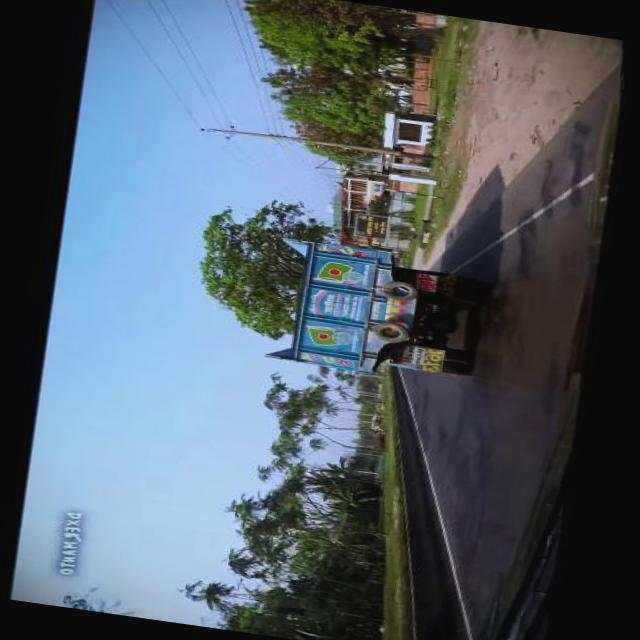truck: (261, 234, 486, 386)
